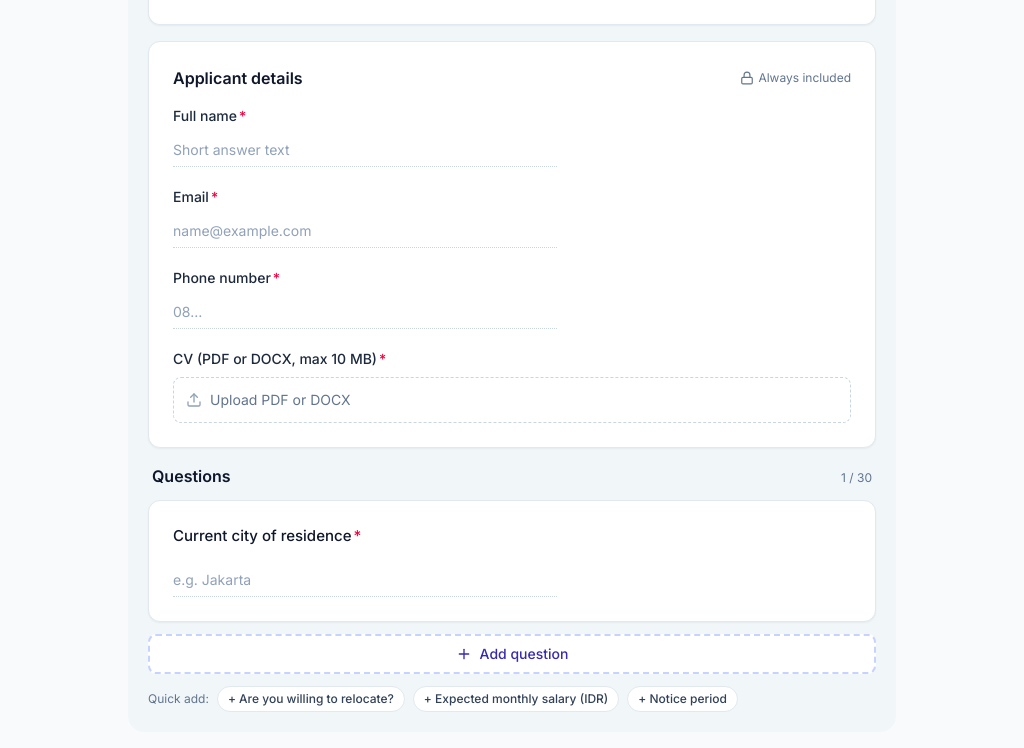
Scenario: FormBuilderPage › activates and focuses the first invalid question on save
This screenshot has width=1024, height=748.
(page scrolled)
Click the button "Add question". click: click(512, 654)
box: 148,634 -> 876,674
(page scrolled)
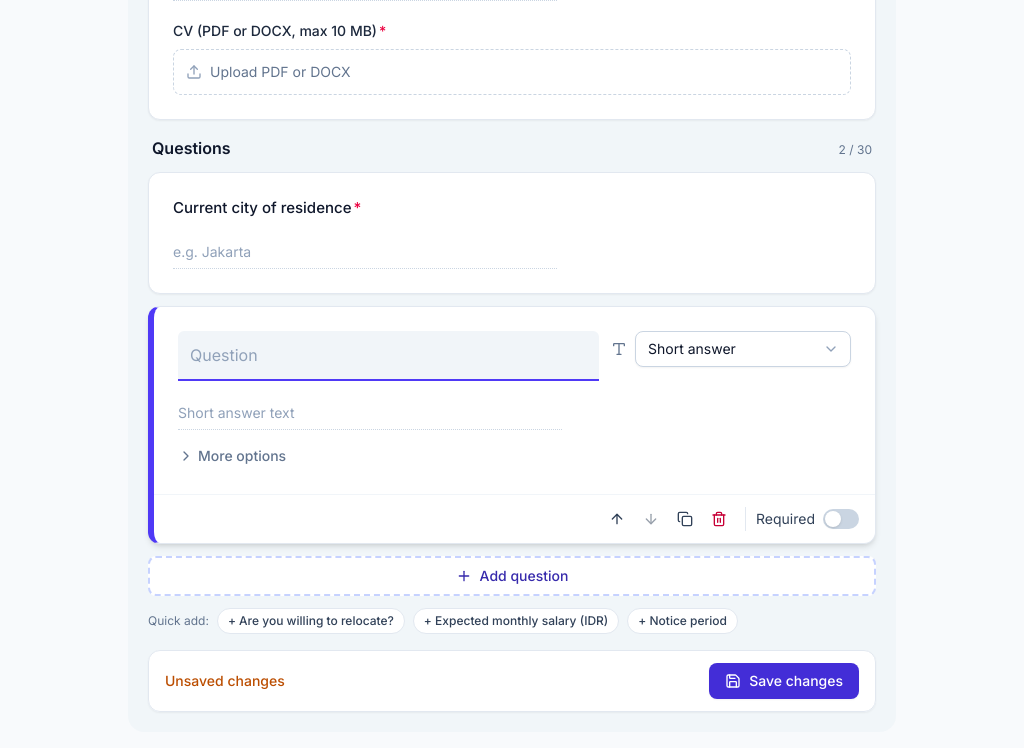
Type "Portfolio link" into the field labelled "Question". click: (388, 356)
box: 178,330 -> 599,380
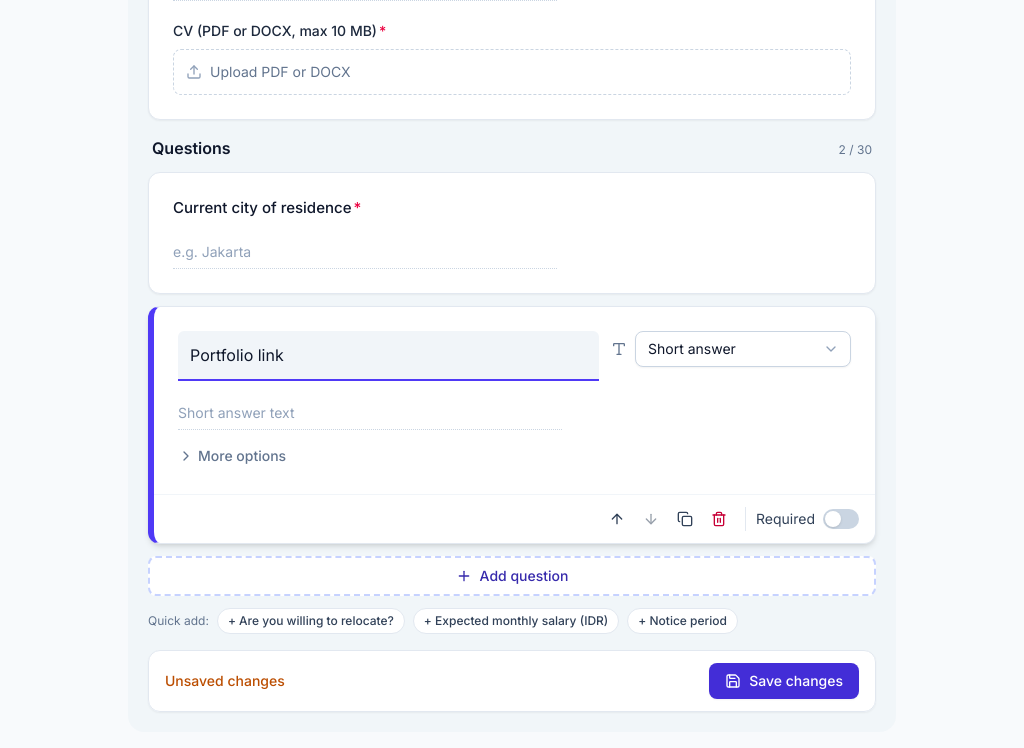
Select "Link (URL)" in the dropdown named "Answer type". click: (743, 348)
box: 635,330 -> 851,366
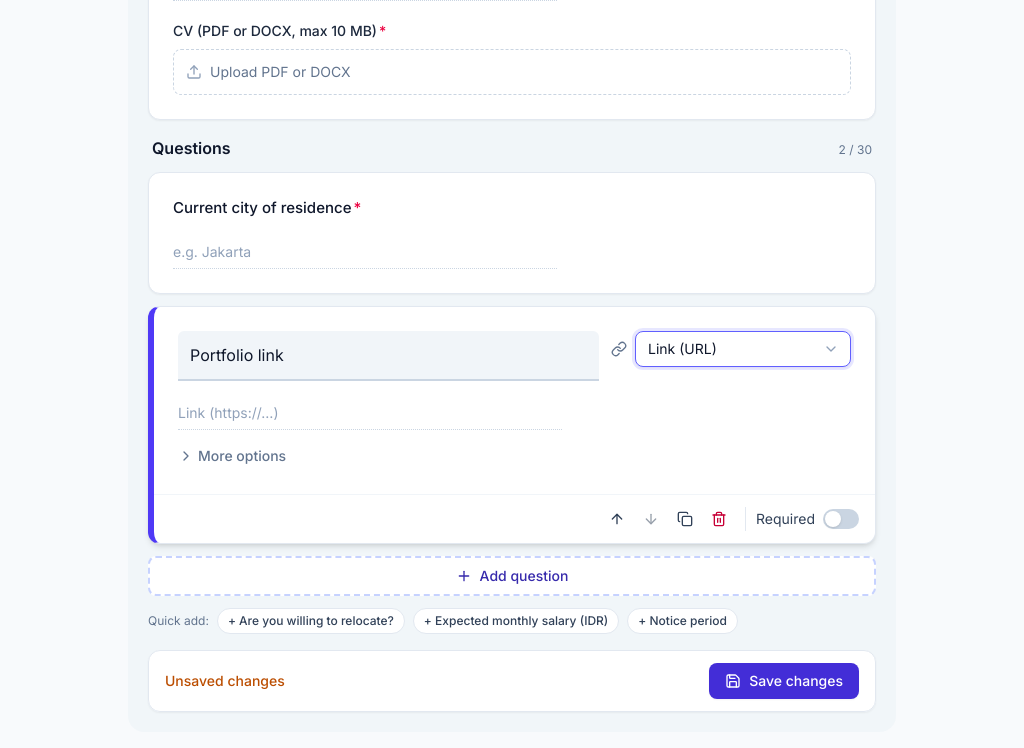
Clear the field named "Question". click: (388, 356)
box: 178,330 -> 599,380
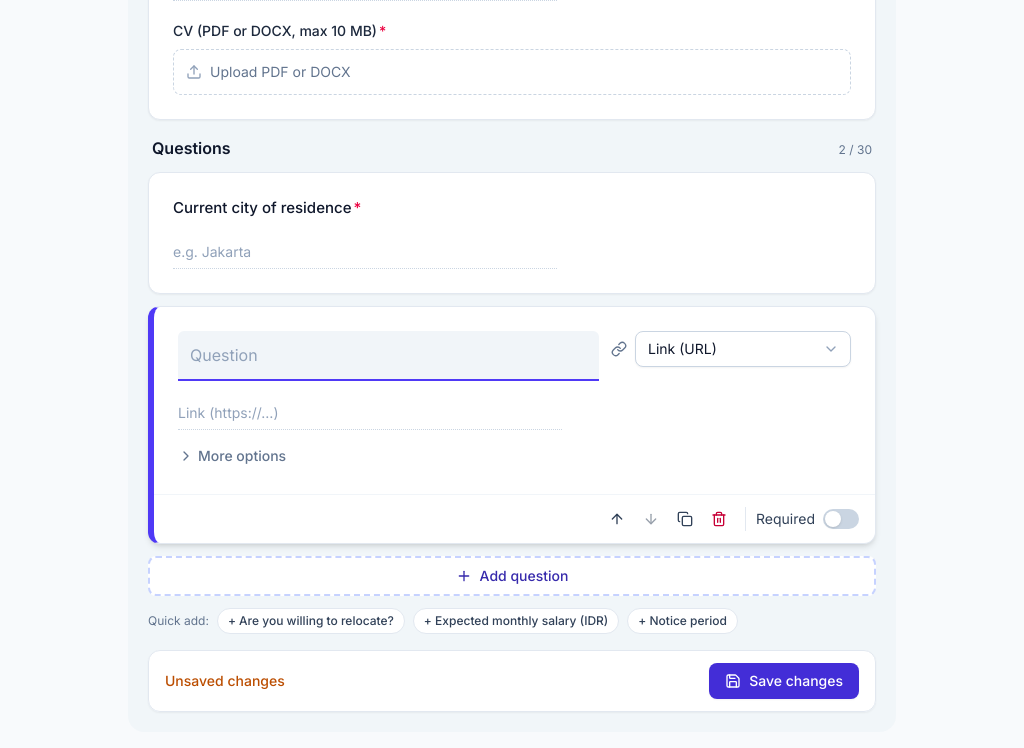
Click the button named "edit question". click: click(512, 233)
box: 149,173 -> 875,292
(page scrolled)
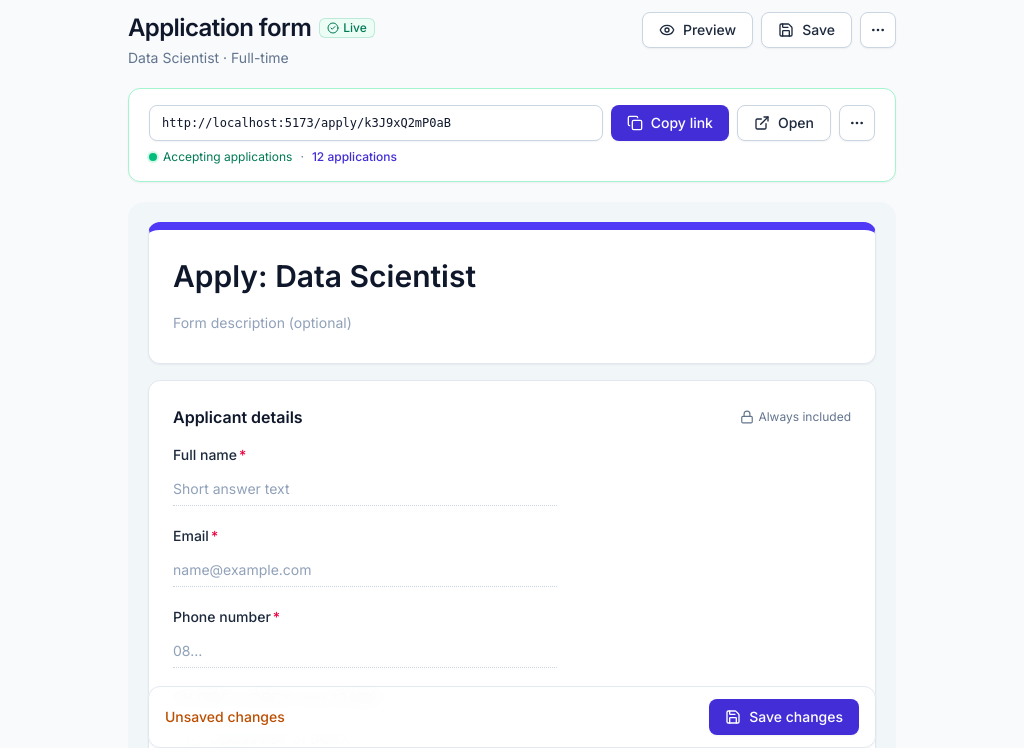
Check: the field labelled "Question" is not shown
Click the button "Save". click: click(807, 30)
box: 761,12 -> 852,48
(page scrolled)
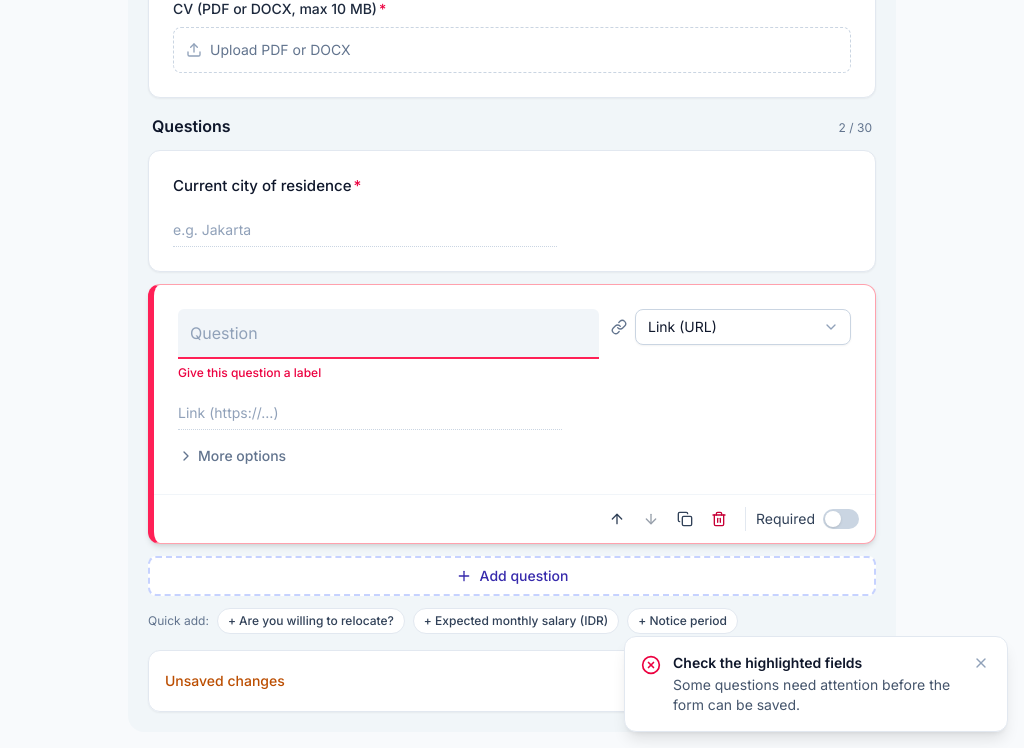
Check: the text "Give this question a label" is shown, box 178,364 -> 321,380
